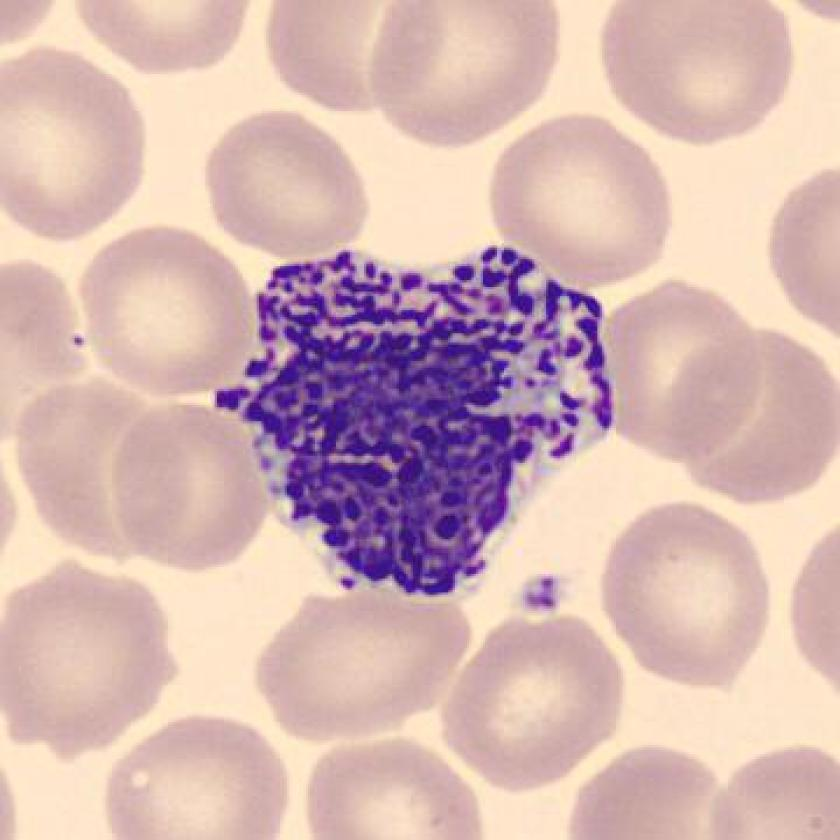basophil: (232, 235, 622, 593)
